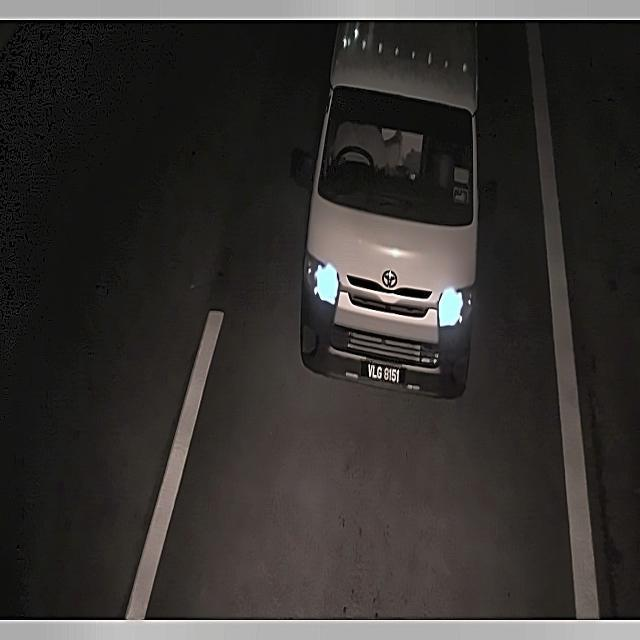car: (356, 347, 409, 392)
